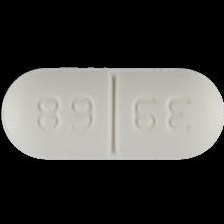61919-478: (0, 0, 224, 224)
